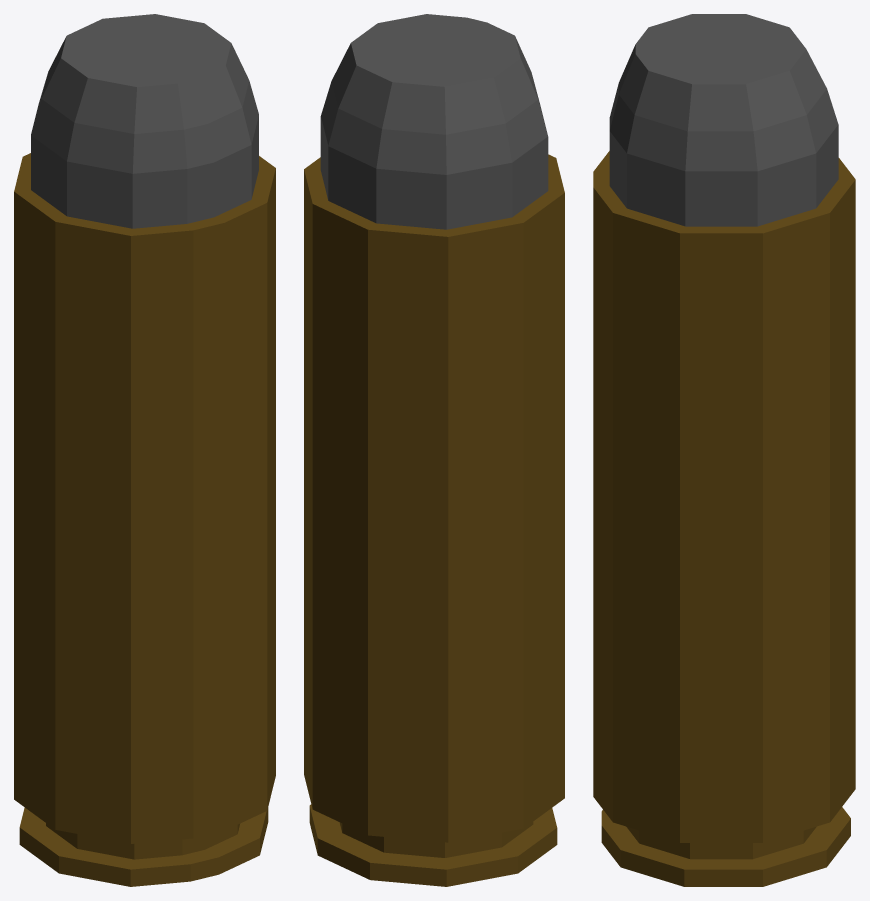
Rendered from Revolver Ammo.glb.
3 renders of one model, left to right at view 1: azimuth 30°, elevation 25°; view 2: azimuth 150°, elevation 25°; view 3: azimuth 270°, elevation 25°, orthographic.
Visible parts, largest first — view 1: Revolver Ammo; view 2: Revolver Ammo; view 3: Revolver Ammo.
Boxes of the visible parts, <box> form: Revolver Ammo: <box>14,14,275,886</box>; Revolver Ammo: <box>304,14,564,886</box>; Revolver Ammo: <box>593,14,855,886</box>.
Size of the model in its own units: 1.11 by 3.79 by 1.15.
